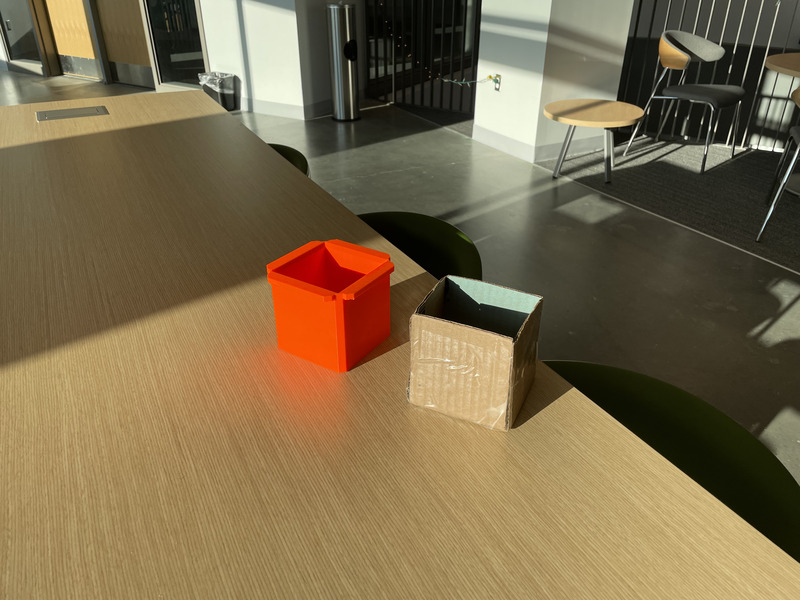payload1: (262, 237, 401, 377)
payload3: (406, 269, 549, 436)
